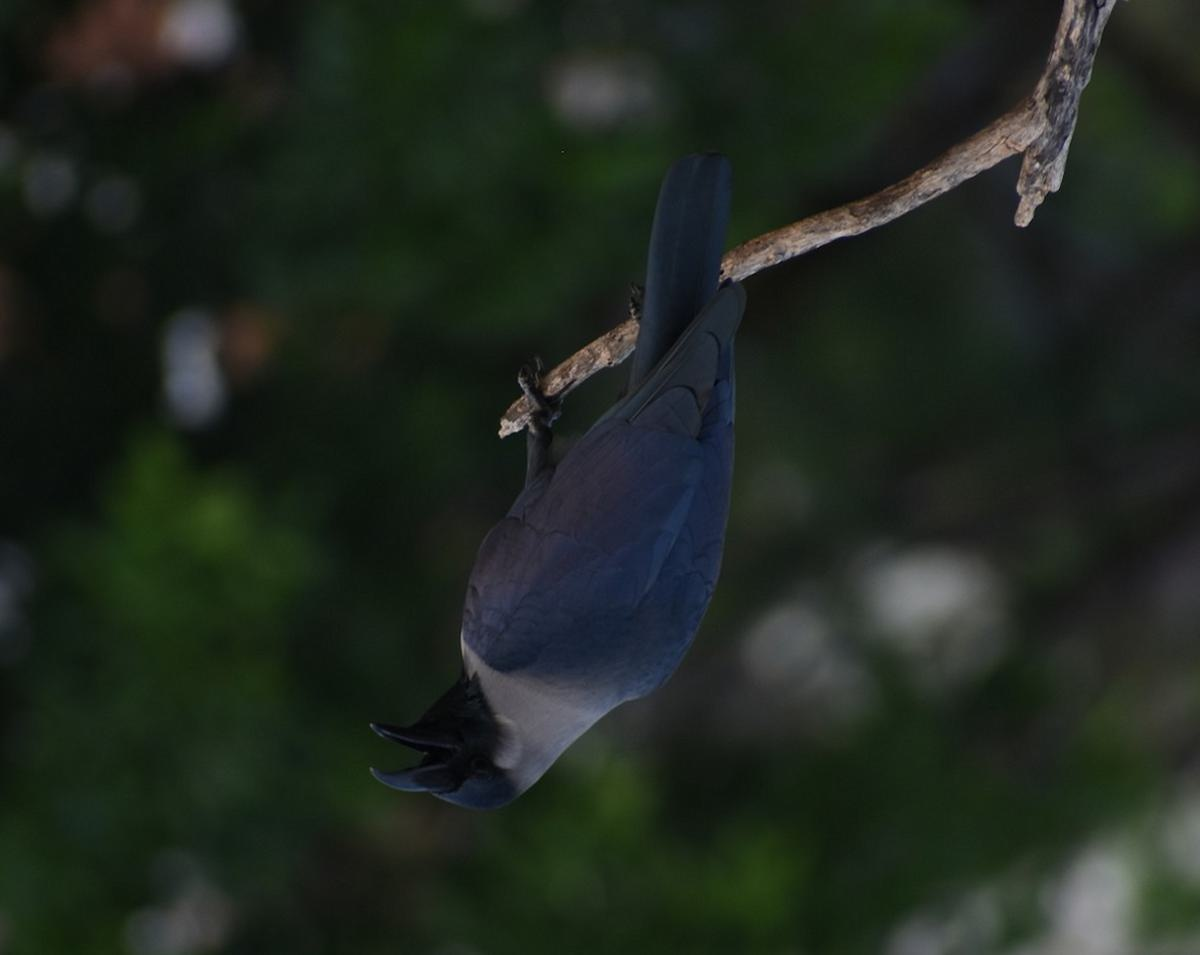crow: (364, 133, 757, 820)
